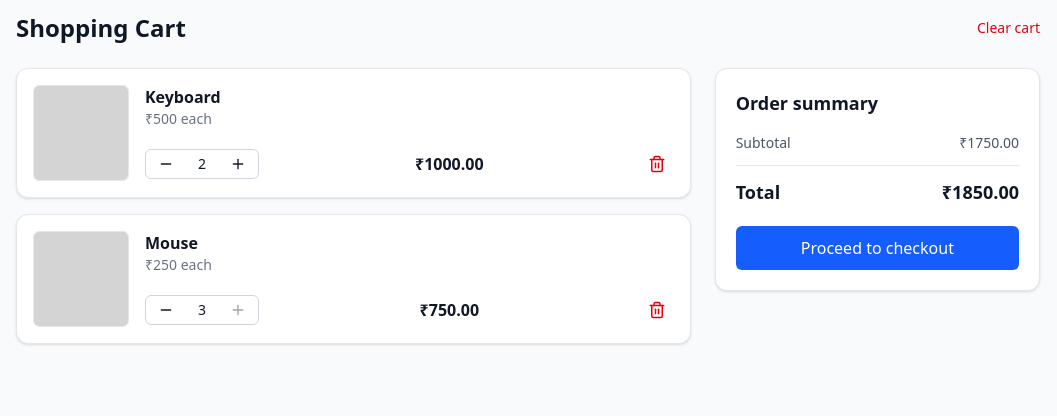
CartPage › errors › clears the old error when the next action starts
Click the button named "Increase quantity" in the row of "1000.00". click: (238, 164)
box: [218,150,258,178]
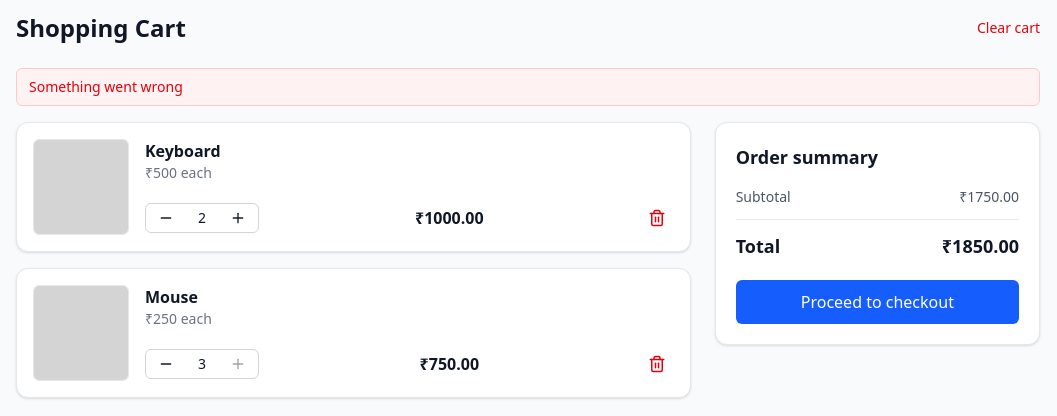
Expected: the text "Something went wrong" is shown, [16,68,1040,106]
Click the button named "Increase quantity" in the row of "1000.00". click: (238, 218)
box: [218,204,258,232]
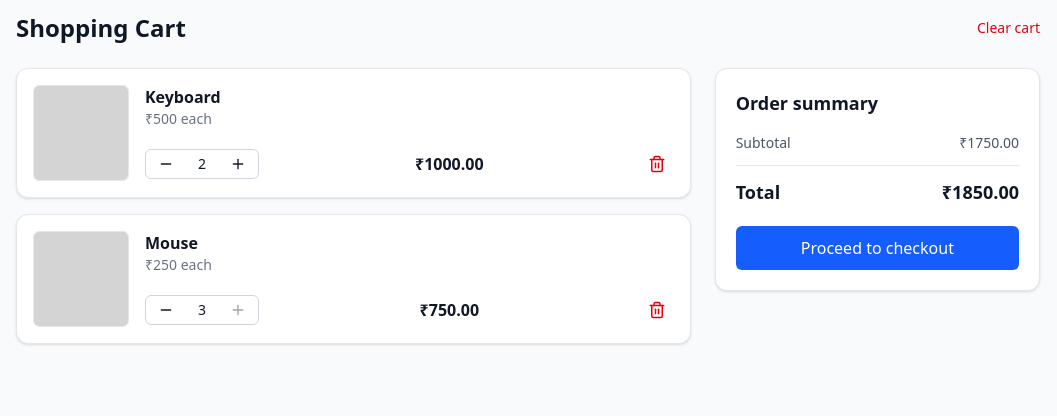
Expected: the text "Something went wrong" is gone
